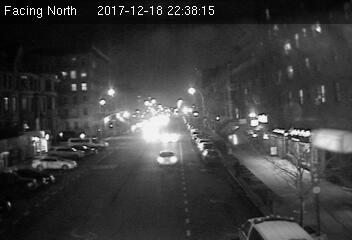car: (157, 150, 178, 168)
police: (235, 215, 312, 240)
